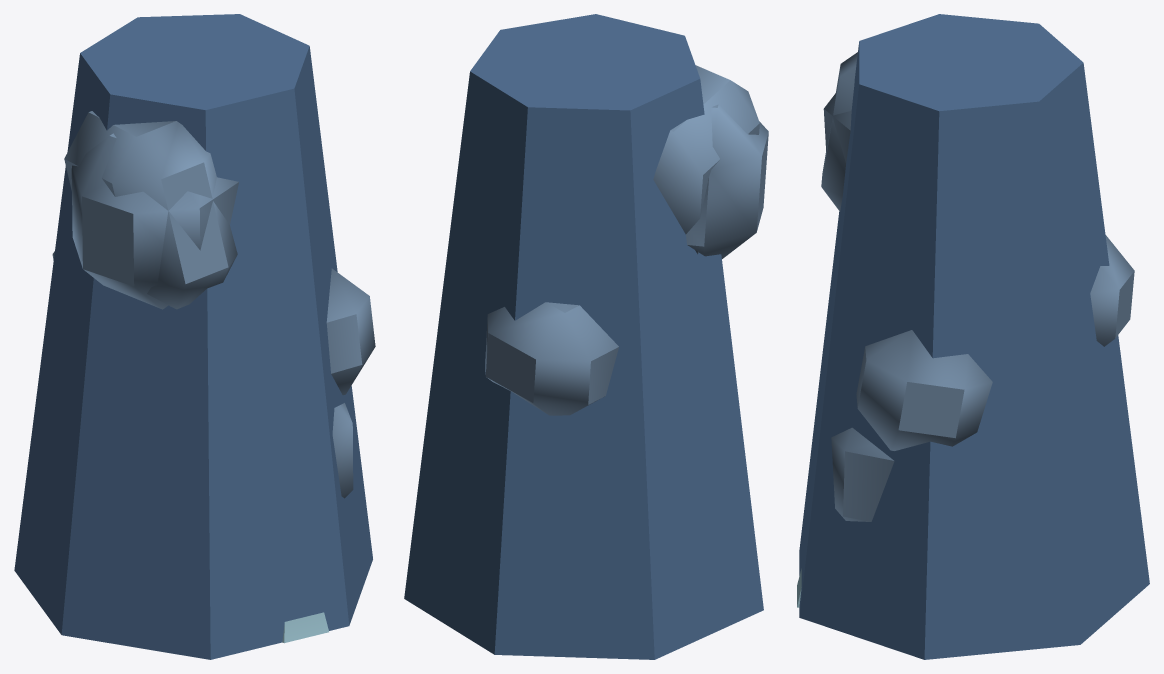
The model's file is cv_eis_rock.glb.
3 renders of one model, left to right at view 1: azimuth 30°, elevation 25°; view 2: azimuth 150°, elevation 25°; view 3: azimuth 270°, elevation 25°, orthographic.
Visible parts, largest first — view 1: body; view 2: body; view 3: body.
Part boxes in pixels (x1,y1,x2,y2): body: (14,14,375,659); body: (404,14,768,659); body: (797,14,1149,659).
Bounding box in the file's own units: 2.44 × 3.9 × 2.39.
